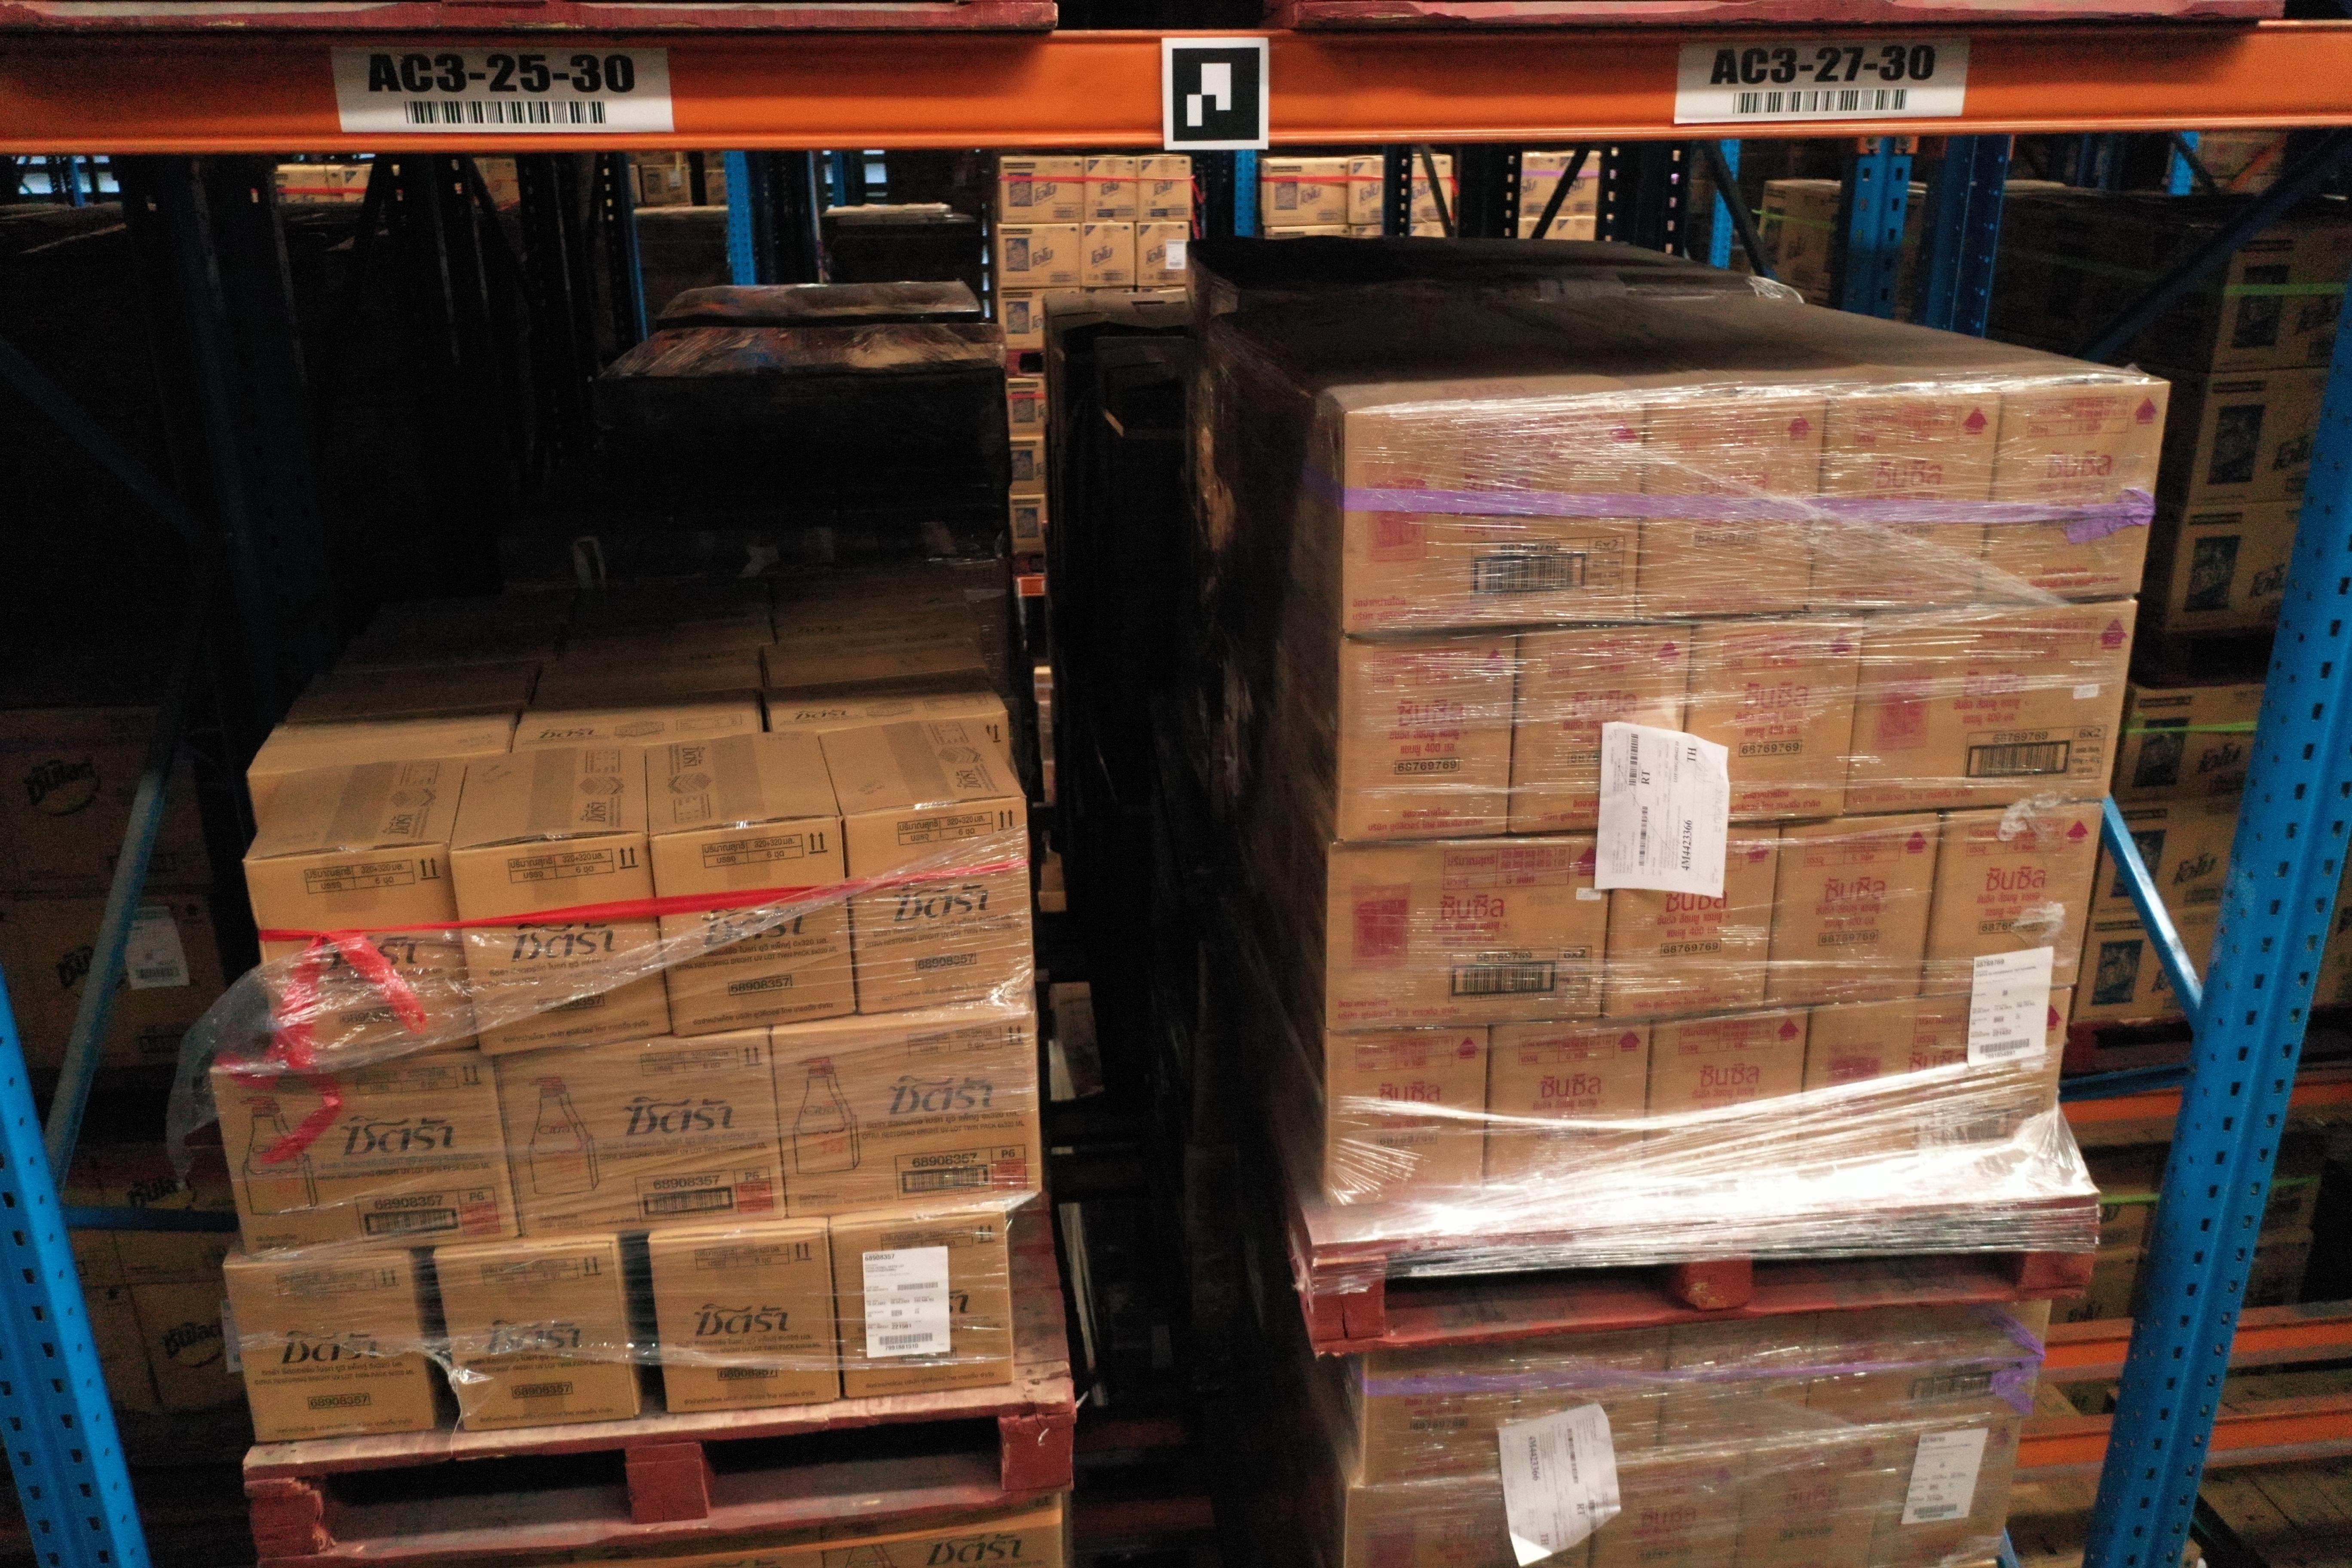-: (1344, 397, 1647, 642), (490, 1029, 789, 1249), (1846, 595, 2137, 817), (210, 1055, 518, 1263), (1326, 829, 1613, 1034), (770, 1011, 1045, 1218), (241, 840, 478, 1074), (1797, 989, 2072, 1186), (450, 831, 670, 1062), (644, 814, 854, 1036), (1809, 388, 2004, 611), (1979, 383, 2170, 605), (845, 794, 1034, 1018), (1640, 394, 1827, 619), (1508, 621, 1697, 836), (1685, 614, 1867, 836), (434, 1242, 639, 1438), (224, 1255, 434, 1444), (1337, 628, 1515, 849), (1605, 819, 1787, 1027), (649, 1228, 840, 1424), (1921, 800, 2107, 999), (829, 1209, 1017, 1403), (1764, 810, 1942, 1010), (1802, 1300, 2051, 1440), (1643, 1004, 1809, 1193), (1487, 1017, 1652, 1206), (1328, 1020, 1489, 1209), (1344, 1468, 1596, 1568), (1363, 1335, 1521, 1494), (1659, 1316, 1822, 1461), (1872, 1412, 2025, 1566), (1521, 1326, 1671, 1477), (1736, 1430, 1892, 1568), (1591, 1445, 1752, 1568)
